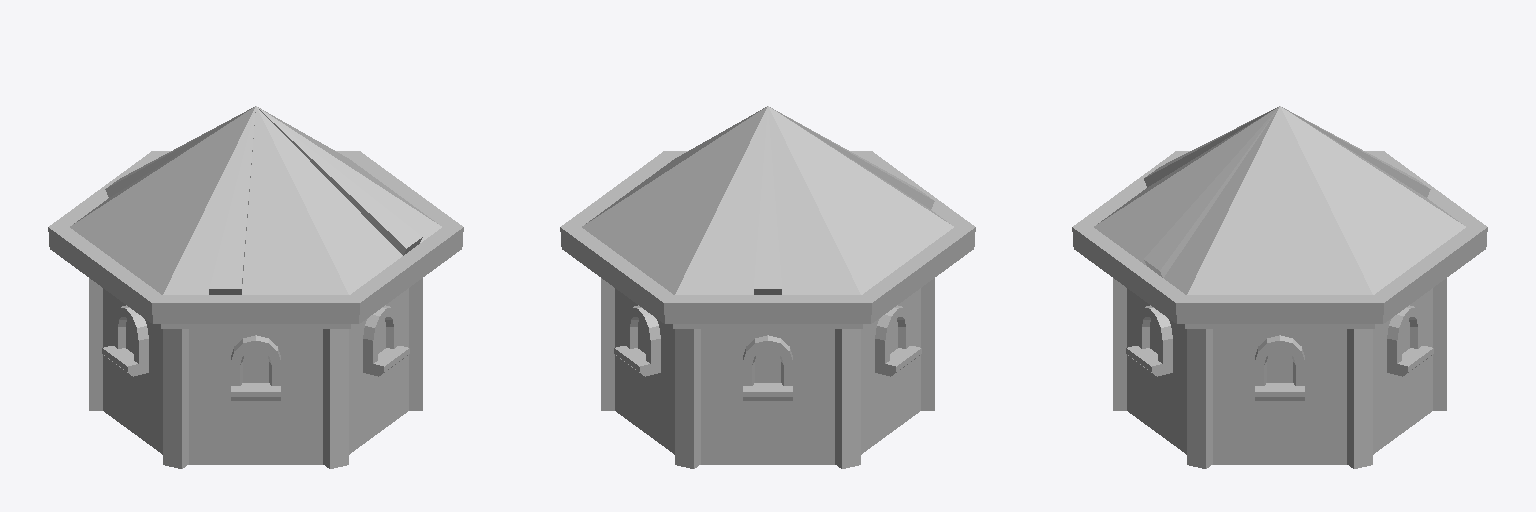
File: building_tower_A_red_building_tower_A_top_red.obj
3 views of the same model, side by side, from view 1: azimuth 30°, elevation 25°; view 2: azimuth 150°, elevation 25°; view 3: azimuth 270°, elevation 25° (orthographic).
Visible parts, largest first — view 1: building_tower_A_top_red; view 2: building_tower_A_top_red; view 3: building_tower_A_top_red.
Part boxes in pixels (x1,y1,x2,y2): building_tower_A_top_red: (48,106,463,468); building_tower_A_top_red: (560,106,975,468); building_tower_A_top_red: (1072,106,1487,468).
Bounding box in the file's own units: 0.9933 × 0.9138 × 1.15.